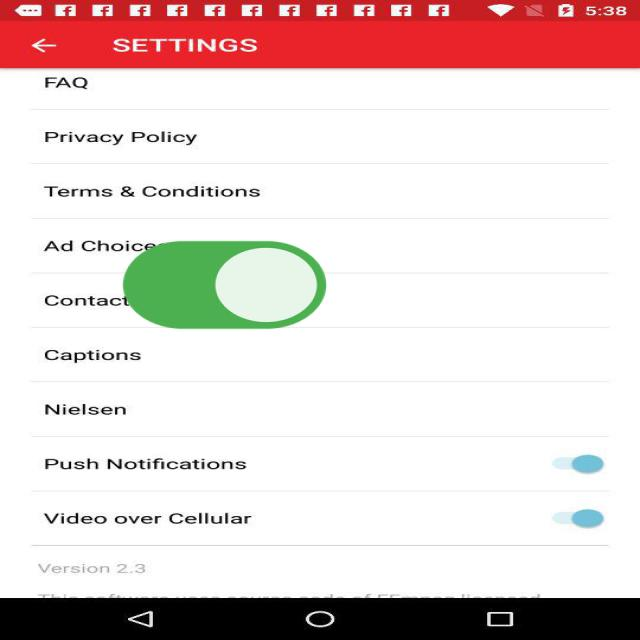social proof: (114, 208, 335, 370)
